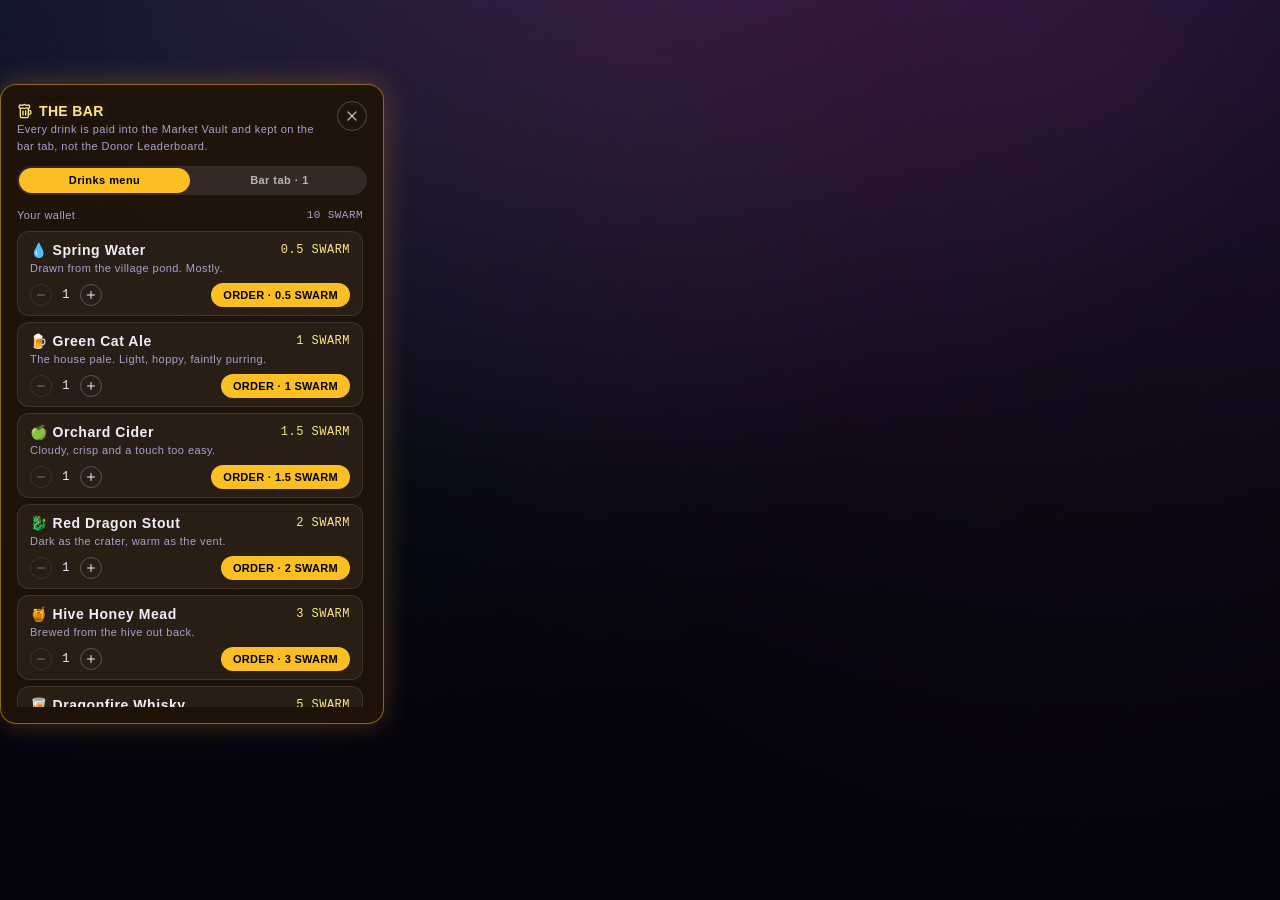
Test case: BarMenuPanel › shows the menu and the patron's own record on the bar tab
Expected: the text "🍺 Green Cat Ale" is shown, x1=30 y1=331 x2=152 y2=351
Click the button "Bar tab · 1".
click(280, 180)  # box x1=194 y1=168 x2=365 y2=192
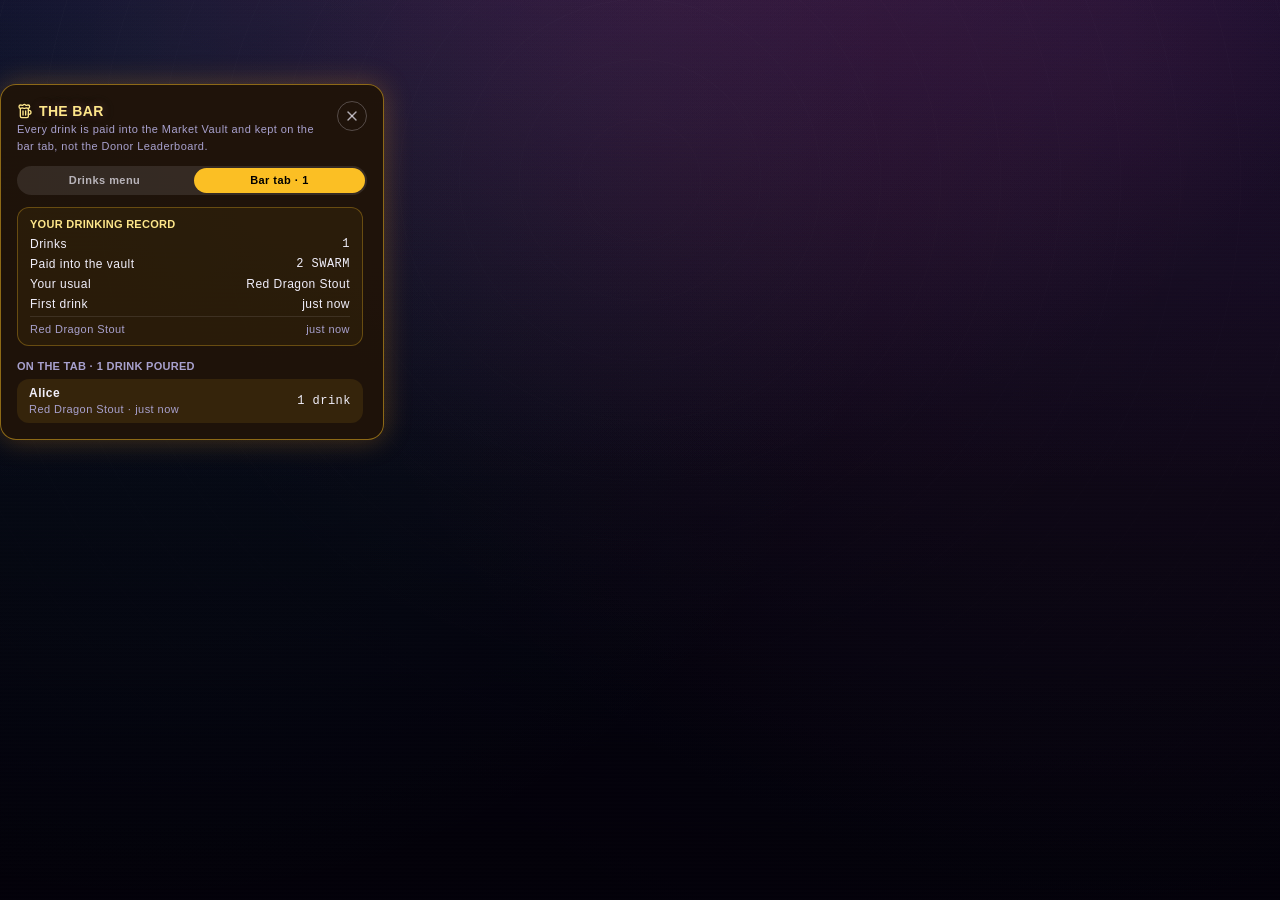
Expected: the text "2 SWARM" is shown, x1=296 y1=256 x2=350 y2=272
Expected: the text "Your usual" is shown, x1=30 y1=276 x2=91 y2=292
Expected: the text "Red Dragon Stout" next to "Your usual" is shown, x1=246 y1=277 x2=350 y2=291
